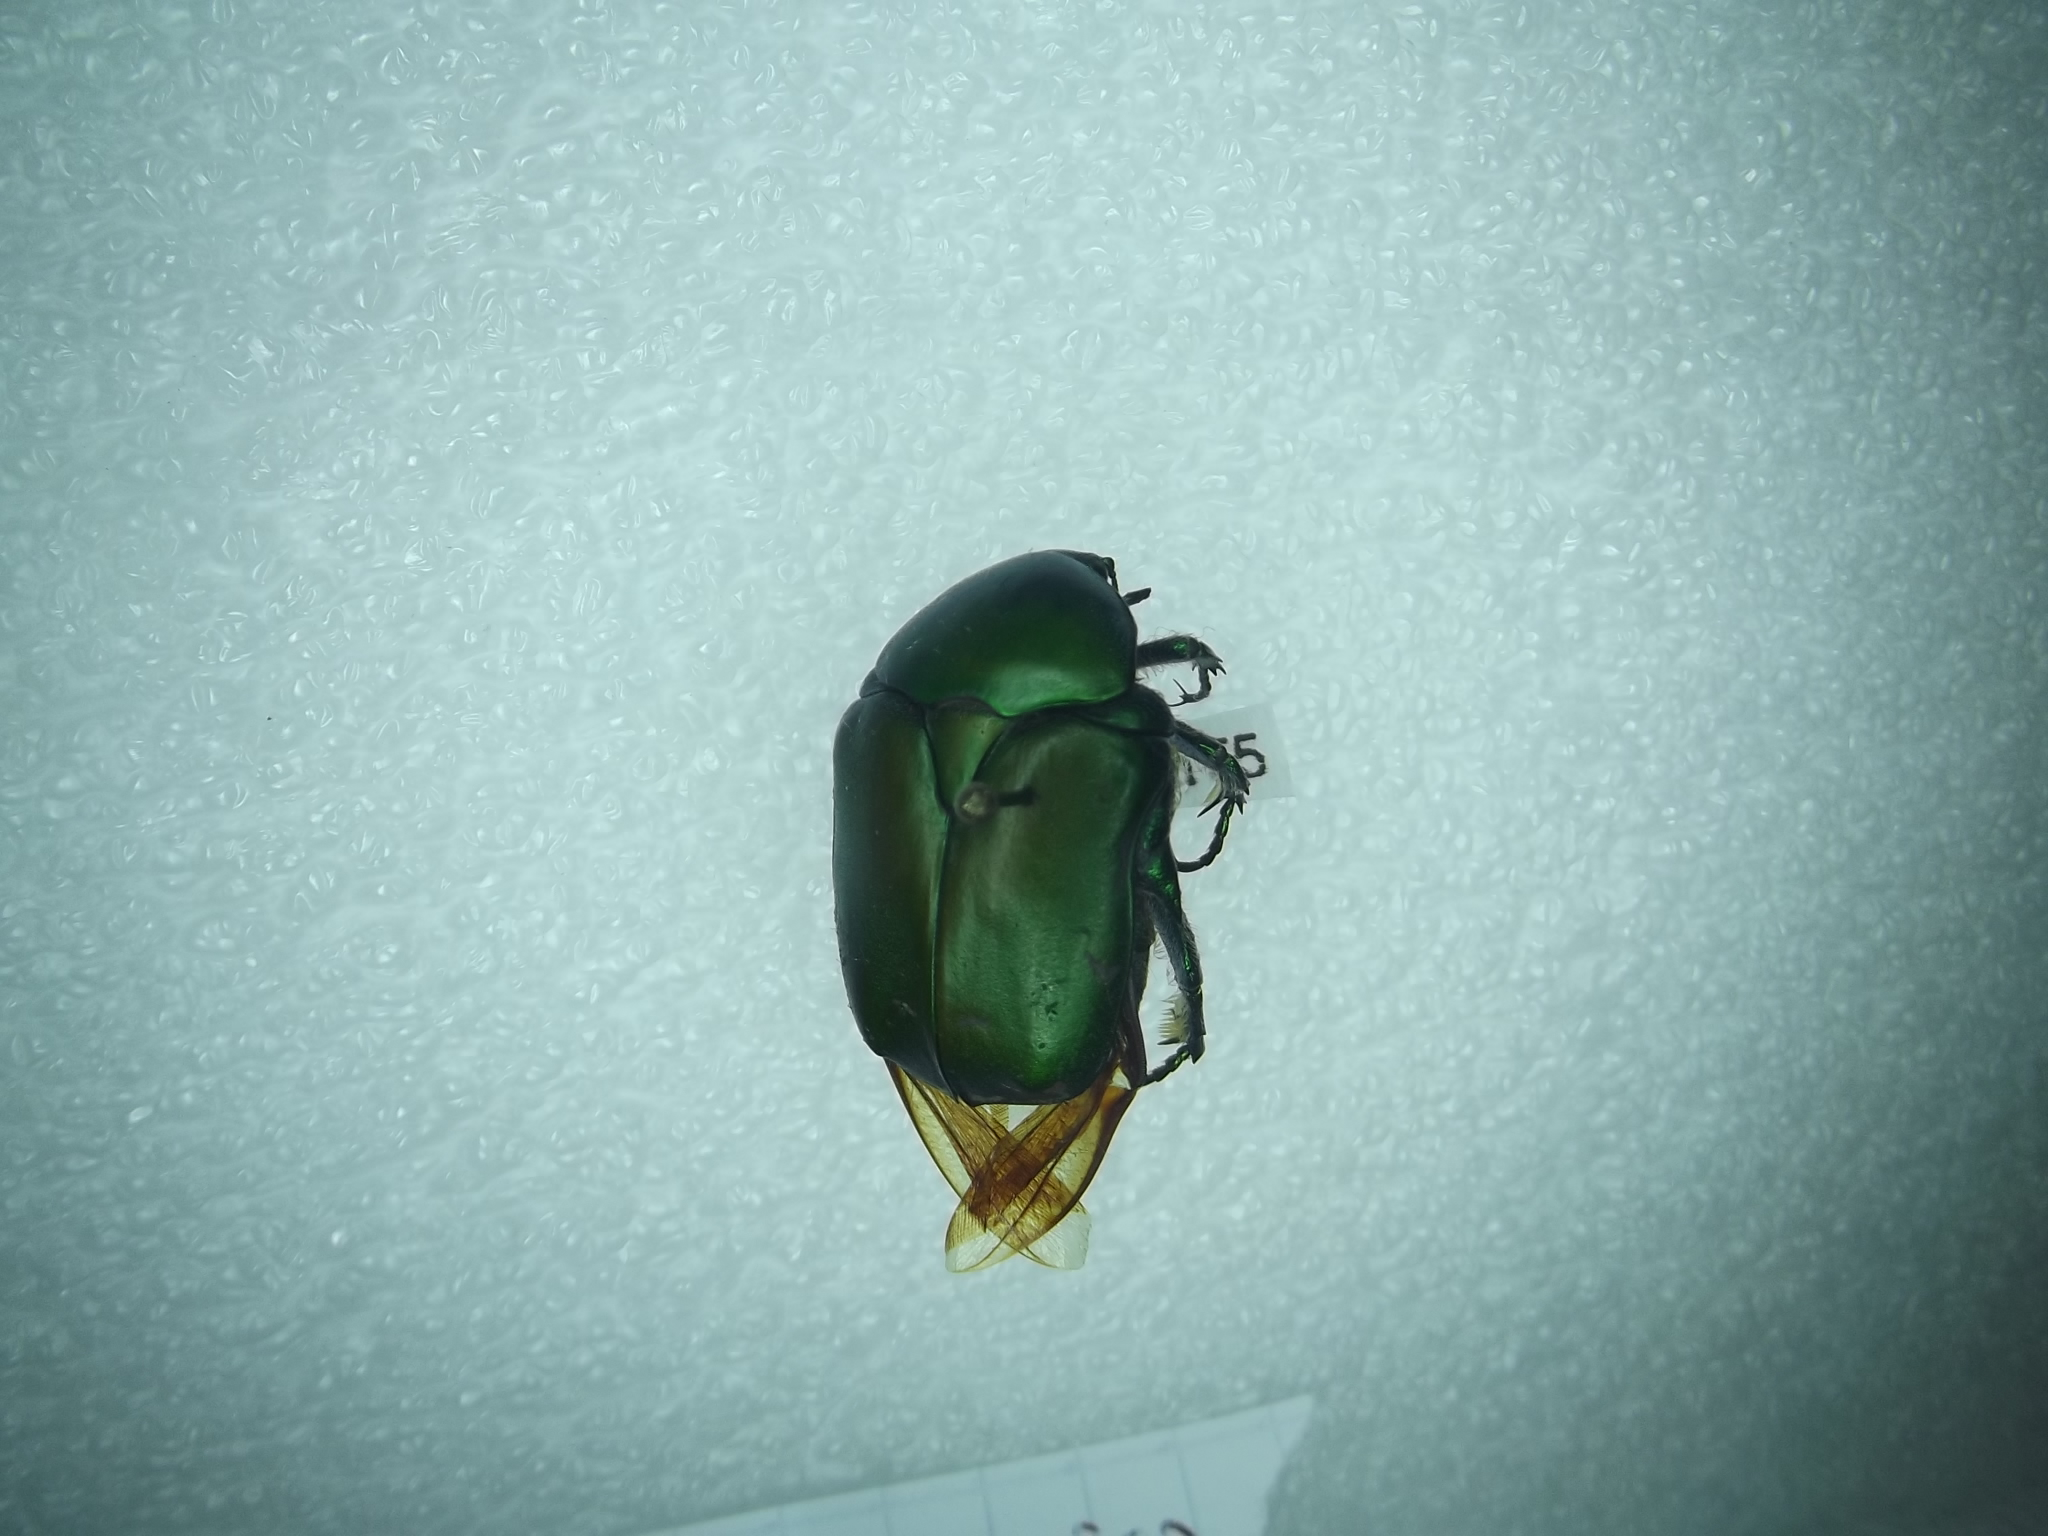Protaetia_ungarica_americana: (811, 526, 1269, 1275)
